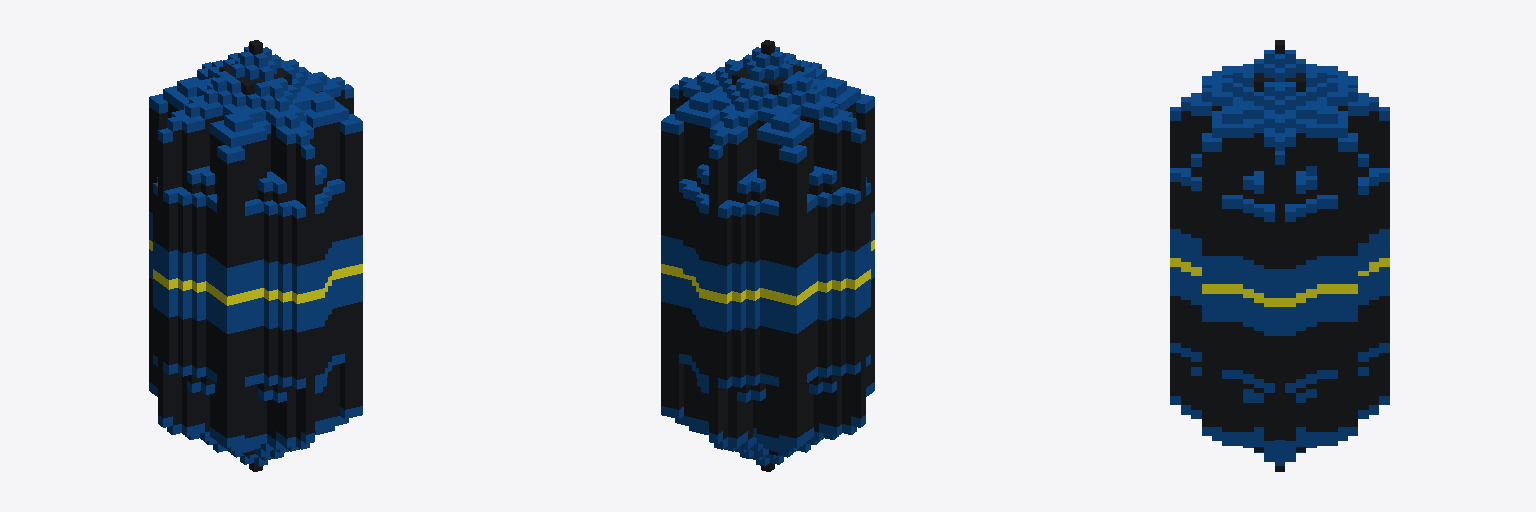
3 renders of one model, left to right at view 1: azimuth 30°, elevation 25°; view 2: azimuth 150°, elevation 25°; view 3: azimuth 270°, elevation 25°, orthographic.
Parts seen in each view (by area): view 1: object 1; view 2: object 1; view 3: object 1.
Boxes of the visible parts, box(x1,y1,x2,y2) form: object 1: box(149, 40, 362, 471); object 1: box(661, 40, 874, 471); object 1: box(1170, 40, 1389, 471).
Size of the model in its own units: 2.1 by 4.5 by 2.1.
Materials: 1 (1 with a texture image).